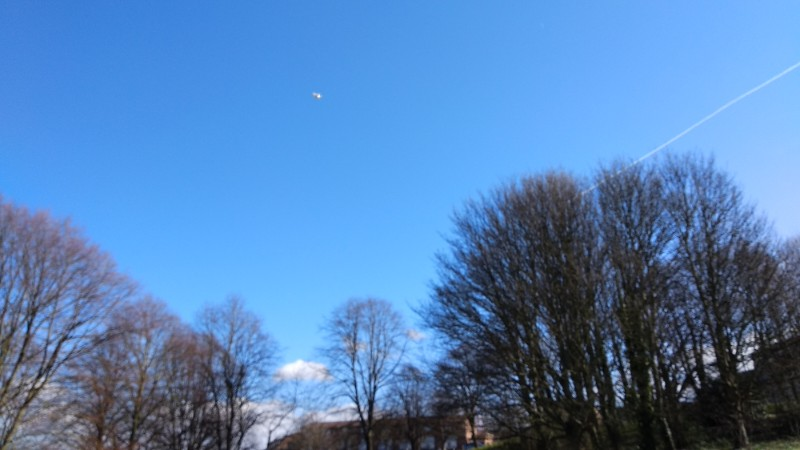drone: (310, 90, 322, 101)
